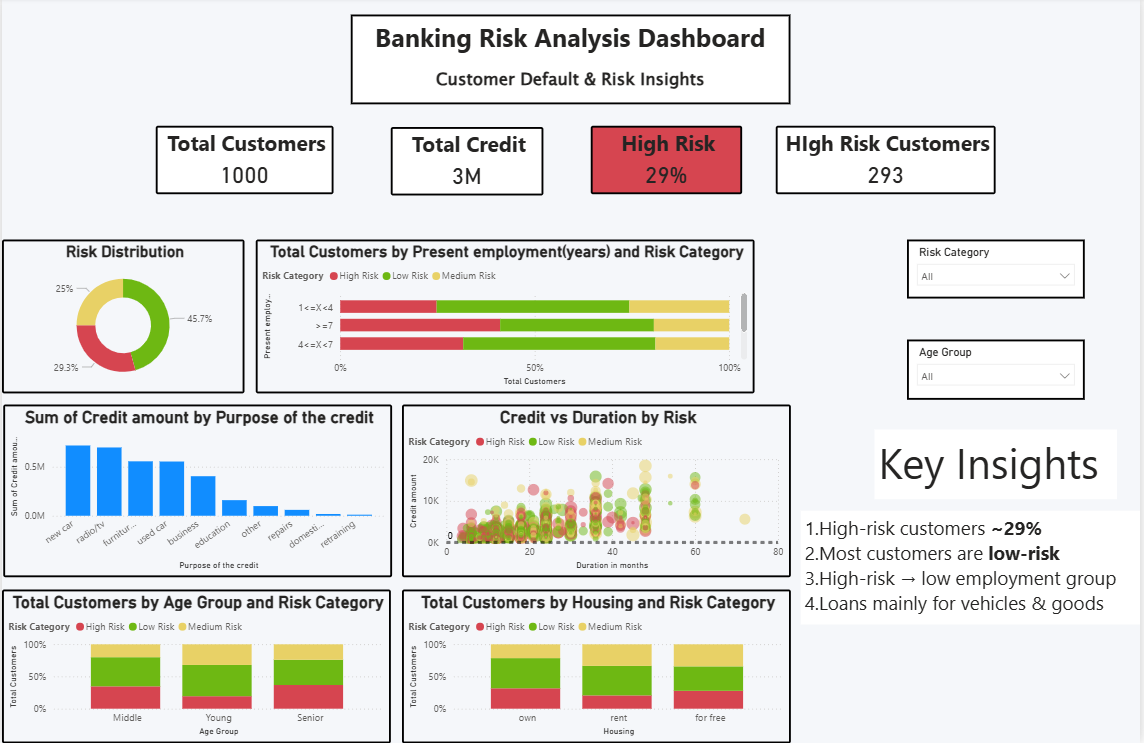

The dashboard page shown, as its layout file describes it:
{"tool":"powerbi","page":{"name":"Page 1","canvas":[1450,950],"ordinal":0},"visuals":[{"type":"donutChart","title":"Risk Distribution","fields":{"Category":["Credit risk dataset.Risk Category"],"Y":["Credit risk dataset.Total Customers"]},"box":[0,308.8,308.8,195.8],"z":0},{"type":"columnChart","fields":{"Category":["Credit risk dataset.Purpose of the credit"],"Y":["Sum(Credit risk dataset.Credit amount)"]},"box":[1.6,518.9,495.1,219.7],"z":1000},{"type":"hundredPercentStackedColumnChart","fields":{"Category":["Credit risk dataset.Age Group"],"Y":["Credit risk dataset.Total Customers"],"Series":["Credit risk dataset.Risk Category"]},"box":[0,754.5,495.1,195.8],"z":2000},{"type":"hundredPercentStackedBarChart","fields":{"Category":["Credit risk dataset.Present employment(years)"],"Y":["Credit risk dataset.Total Customers"],"Series":["Credit risk dataset.Risk Category"]},"box":[323.1,308.8,635.1,195.8],"z":3000},{"type":"scatterChart","title":"Credit vs Duration by Risk","fields":{"Series":["Credit risk dataset.Risk Category"],"X":["Credit risk dataset.Duration in months"],"Y":["Credit risk dataset.Credit amount"],"Size":["Sum(Credit risk dataset.id)"]},"box":[509.4,518.9,495.1,219.7],"z":4000},{"type":"hundredPercentStackedColumnChart","fields":{"Category":["Credit risk dataset.Housing"],"Y":["Credit risk dataset.Total Customers"],"Series":["Credit risk dataset.Risk Category"]},"box":[509.4,754.5,495.1,195.8],"z":5000},{"type":"card","title":"Total Customers","fields":{"Values":["Credit risk dataset.Total Customers"]},"box":[195.8,164,226,87.6],"z":6000},{"type":"card","title":"High Risk","fields":{"Values":["Credit risk dataset.High Risk %"]},"box":[749.8,164,192.6,87.6],"z":7000},{"type":"card","title":"Total Credit","fields":{"Values":["Credit risk dataset.Total Credit"]},"box":[495.1,165.6,194.2,87.6],"z":8000},{"type":"card","title":"HIgh Risk Customers","fields":{"Values":["Credit risk dataset.High Risk Customers"]},"box":[985.3,164,280.2,87.6],"z":9000},{"type":"textbox","box":[444.1,22.3,560.3,114.6],"z":10000},{"type":"slicer","fields":{"Values":["Credit risk dataset.Risk Category"]},"box":[1152.5,308.8,226,74.8],"z":10001},{"type":"slicer","fields":{"Values":["Credit risk dataset.Age Group"]},"box":[1152.5,436.2,226,76.4],"z":10002},{"type":"textbox","box":[1017.2,654.2,433,144.9],"z":10003},{"type":"textbox","box":[1111.1,550.8,308.8,89.1],"z":10004}]}

Visuals, with their boxes in screenshot pixels (x1, y1, x2, y2), scaled from the page's 1450x950 canvas onto the 1144x743 screenshot:
"Risk Distribution" donutChart: [0,242,244,395]
columnChart - Credit risk dataset.Purpose of the credit x Sum(Credit risk dataset.Credit amount): [1,406,392,578]
hundredPercentStackedColumnChart - Credit risk dataset.Age Group x Credit risk dataset.Total Customers: [0,590,391,742]
hundredPercentStackedBarChart - Credit risk dataset.Present employment(years) x Credit risk dataset.Total Customers: [255,242,756,395]
"Credit vs Duration by Risk" scatterChart: [402,406,793,578]
hundredPercentStackedColumnChart - Credit risk dataset.Housing x Credit risk dataset.Total Customers: [402,590,793,742]
"Total Customers" card: [154,128,333,197]
"High Risk" card: [592,128,744,197]
"Total Credit" card: [391,130,544,198]
"HIgh Risk Customers" card: [777,128,998,197]
textbox: [350,17,792,107]
slicer - Credit risk dataset.Risk Category: [909,242,1088,300]
slicer - Credit risk dataset.Age Group: [909,341,1088,401]
textbox: [803,512,1143,625]
textbox: [877,431,1120,500]
